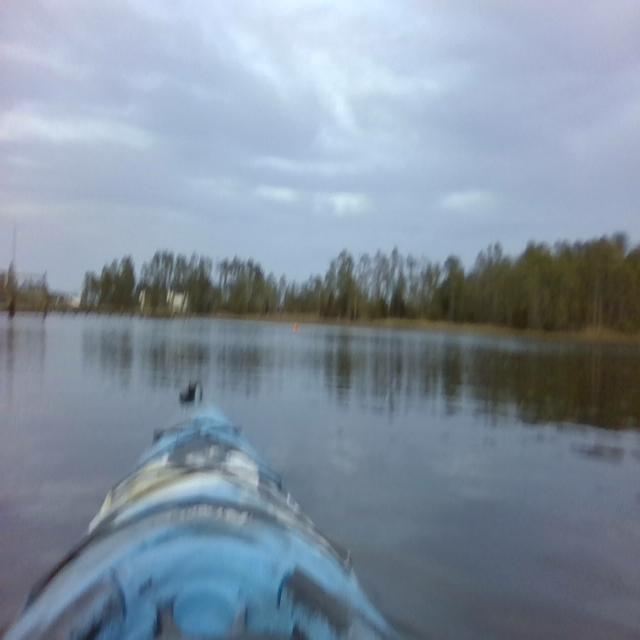Buoy: (292, 316, 304, 335)
